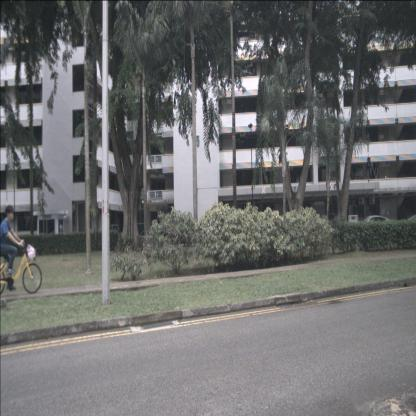vehicle-bicycle: (1, 204, 42, 294)
vehicle-car: (354, 215, 392, 240), (348, 214, 358, 232)
